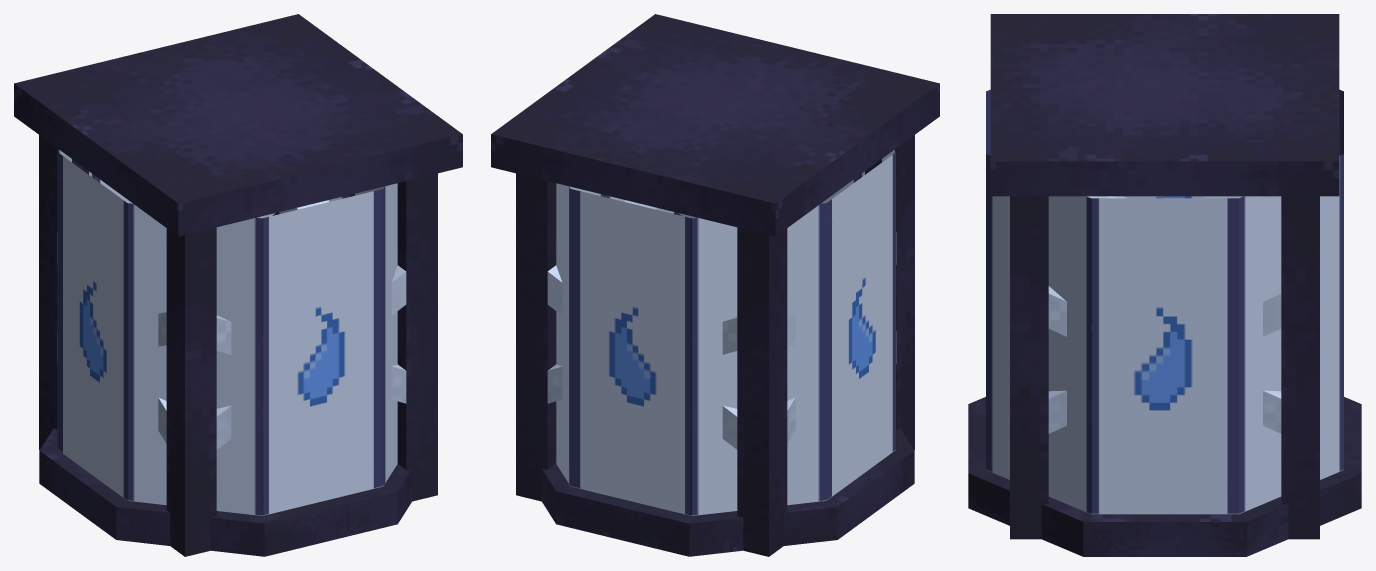
File: waterTower.fbx
3 views of the same model, side by side, from view 1: azimuth 30°, elevation 25°; view 2: azimuth 150°, elevation 25°; view 3: azimuth 270°, elevation 25° (orthographic). The views are drawn at different scales.
Visible parts, largest first — view 1: base, updrade, top; view 2: base, updrade, top; view 3: updrade, base, top.
Boxes of the visible parts, <box> form: base: <box>14,14,462,556</box>; updrade: <box>39,149,412,545</box>; top: <box>39,451,395,556</box>; base: <box>491,14,939,556</box>; updrade: <box>542,149,914,556</box>; top: <box>541,451,914,556</box>; updrade: <box>968,89,1361,556</box>; base: <box>990,14,1339,539</box>; top: <box>968,473,1361,556</box>.
Size of the model in its own units: 203 by 220 by 203.
